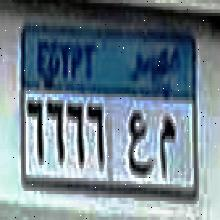6: (87, 97, 106, 176), (65, 96, 85, 170), (44, 98, 64, 170), (26, 93, 43, 165)
ain: (126, 103, 153, 182)
meem: (156, 108, 176, 178)
